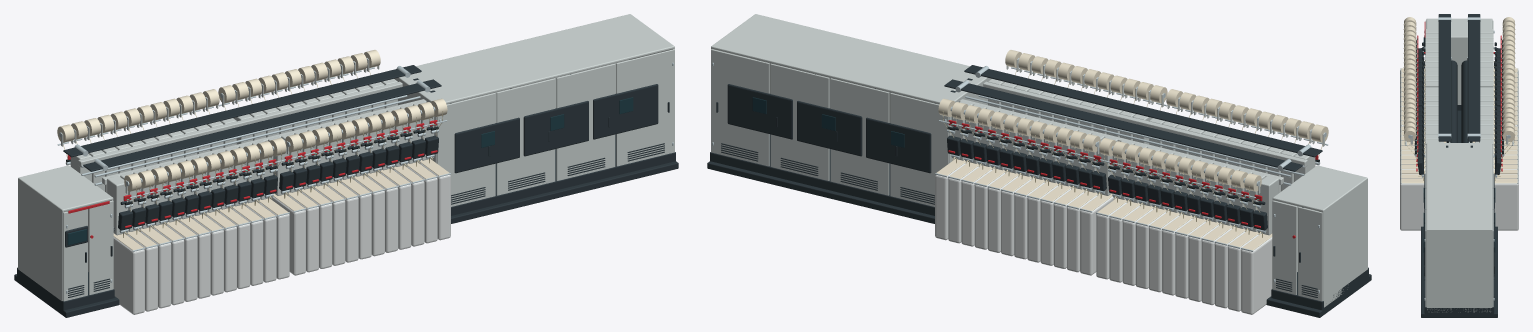
File: saurer_bd_8.glb
The picture shows the model from 3 angles, left to right: view 1: azimuth 30°, elevation 25°; view 2: azimuth 150°, elevation 25°; view 3: azimuth 270°, elevation 25°; orthographic projection. The views are drawn at different scales.
Visible parts, largest first — view 1: BD8_tail_roof, cabinet_door.007, BD8_head_end_wall, cabinet_door.005, cabinet_door.006, cabinet_door.004, transport_belt, transport_belt.001, foundation, waste_chamber_door, waste_chamber_door.002, waste_chamber_door.004 (+34 smaller); view 2: BD8_tail_roof, cabinet_door.011, BD8_head_end_wall, cabinet_door.009, cabinet_door.010, cabinet_door.008, transport_belt.001, transport_belt, foundation, waste_chamber_door.001, waste_chamber_door.003, waste_chamber_door.005 (+34 smaller); view 3: BD8_tail_roof, BD8_tail_end_wall.001, transport_belt, transport_belt.001, sliver_can.023, sliver_can.047, foundation, BD8_tail_base, BD8_head_roof, BD8_head_end_wall.001, main_duct, main_duct.001 (+10 smaller).
Part boxes in pixels (x1,y1,x2,y2): BD8_tail_roof: [398, 14, 674, 104]; cabinet_door.007: [616, 49, 674, 166]; BD8_head_end_wall: [18, 179, 63, 300]; cabinet_door.005: [496, 78, 555, 195]; cabinet_door.006: [556, 63, 615, 180]; cabinet_door.004: [436, 93, 495, 206]; transport_belt: [83, 79, 441, 171]; transport_belt.001: [63, 65, 421, 157]; foundation: [14, 161, 678, 317]; waste_chamber_door: [454, 117, 519, 173]; waste_chamber_door.002: [523, 101, 588, 156]; waste_chamber_door.004: [593, 84, 658, 139]; BD8_tail_roof: [711, 14, 987, 104]; cabinet_door.011: [711, 49, 769, 166]; BD8_head_end_wall: [1322, 179, 1367, 307]; cabinet_door.009: [830, 78, 889, 195]; cabinet_door.010: [770, 63, 829, 180]; cabinet_door.008: [890, 93, 949, 206]; transport_belt.001: [944, 79, 1302, 171]; transport_belt: [964, 65, 1322, 157]; foundation: [707, 161, 1371, 317]; waste_chamber_door.001: [866, 117, 931, 173]; waste_chamber_door.003: [797, 101, 862, 156]; waste_chamber_door.005: [727, 84, 792, 139]; BD8_tail_roof: [1426, 143, 1492, 230]; BD8_tail_end_wall.001: [1426, 230, 1492, 312]; transport_belt: [1438, 14, 1450, 141]; transport_belt.001: [1468, 14, 1480, 141]; sliver_can.023: [1400, 181, 1424, 230]; sliver_can.047: [1494, 181, 1518, 230]; foundation: [1421, 110, 1497, 317]; BD8_tail_base: [1424, 280, 1494, 317]; BD8_head_roof: [1426, 18, 1492, 38]; BD8_head_end_wall.001: [1451, 38, 1467, 104]; main_duct: [1446, 60, 1457, 142]; main_duct.001: [1461, 60, 1472, 142].
Bounding box in the file's own units: 10.7 × 2.25 × 2.43.
